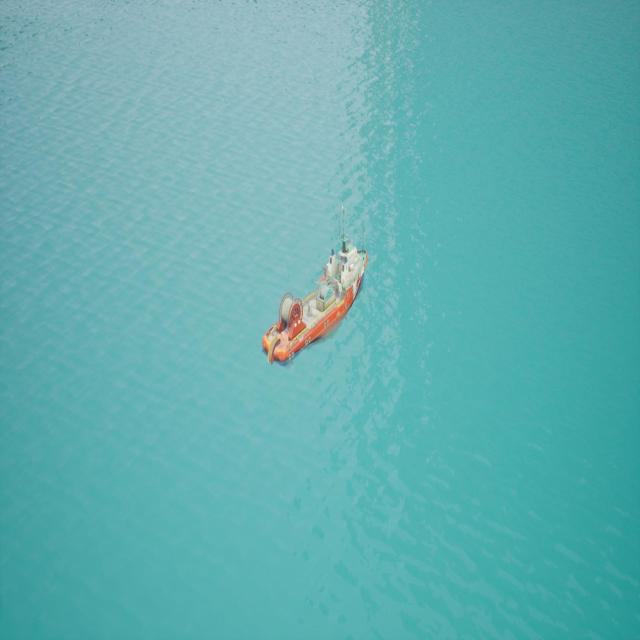tug boat: (253, 205, 385, 410)
